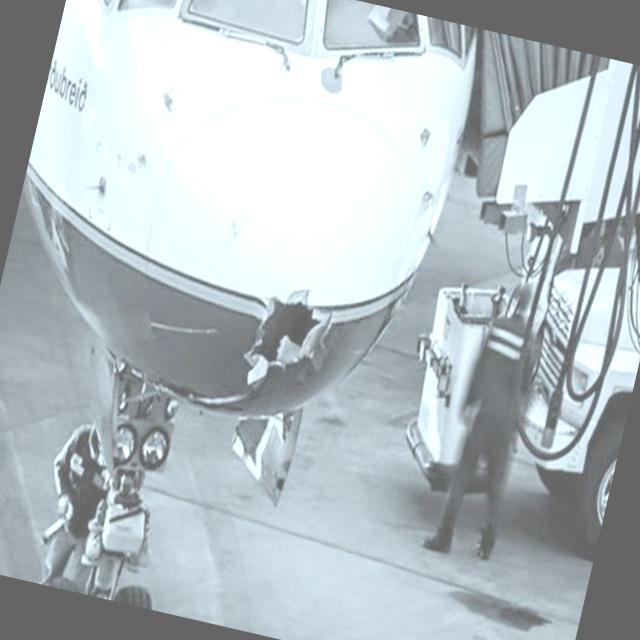crack: (238, 276, 340, 389)
